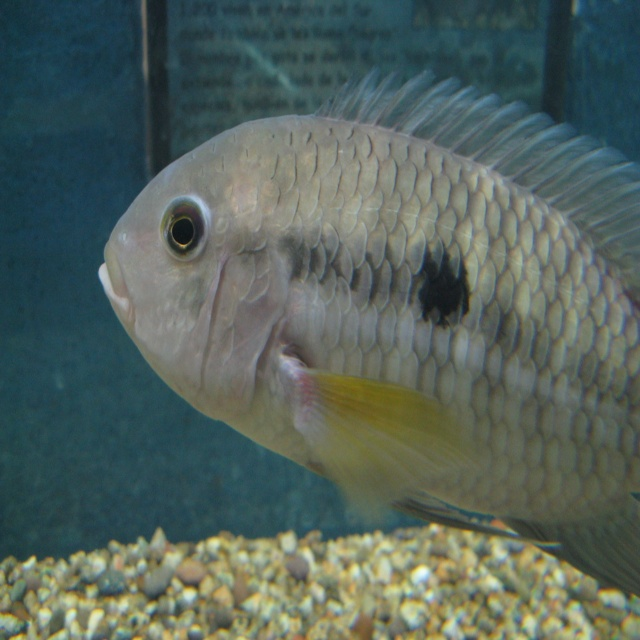Fish: (97, 64, 640, 600)
